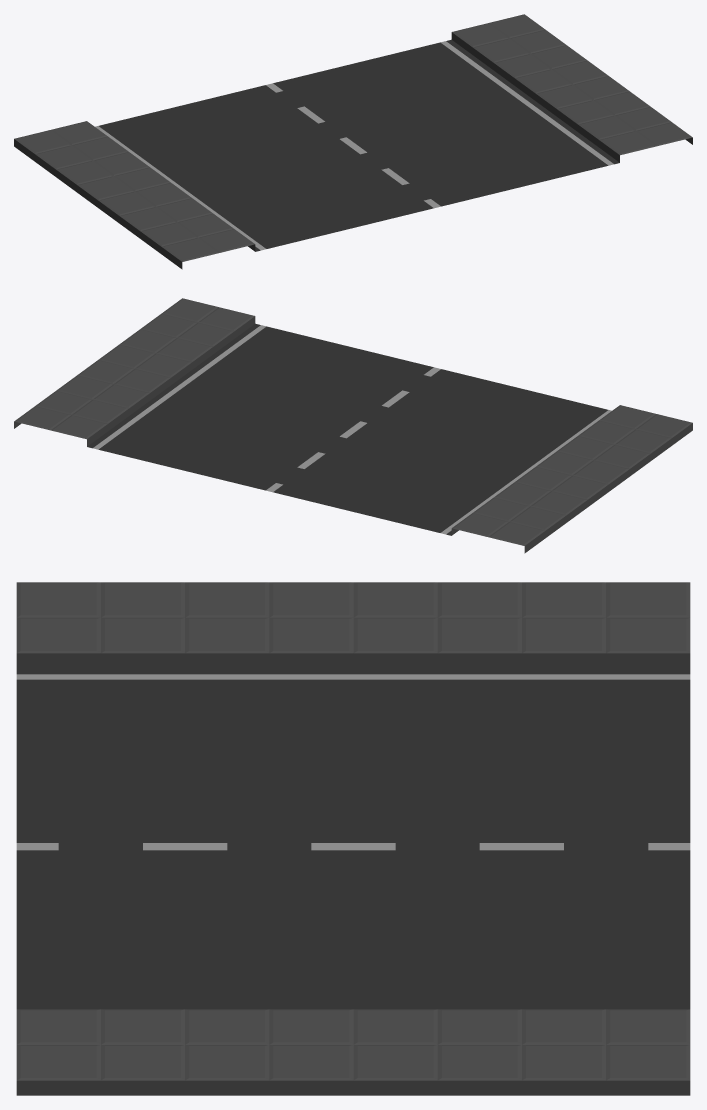
The model's file is Road x8.fbx.
The picture shows the model from 3 angles, top to bottom: view 1: azimuth 30°, elevation 25°; view 2: azimuth 150°, elevation 25°; view 3: azimuth 270°, elevation 25°; orthographic projection. The views are drawn at different scales.
Visible parts, largest first — view 1: Cube; view 2: Cube; view 3: Cube.
Boxes of the visible parts, left/top/right/bottom form: Cube: left=14, top=14, right=692, bottom=269; Cube: left=14, top=298, right=692, bottom=553; Cube: left=16, top=582, right=690, bottom=1095.
Size of the model in its own units: 1400 by 21 by 800.
